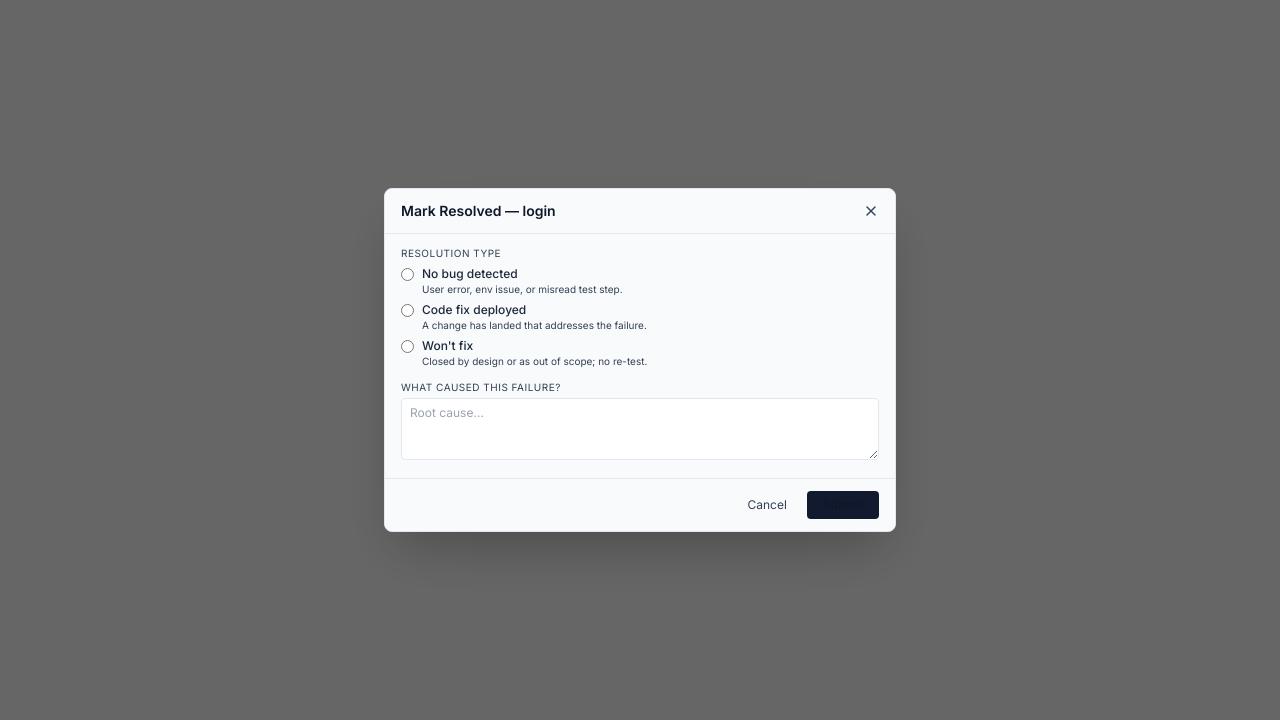
Test: ResolutionModal — Submit gate › Submit enables for wont_fix with only a root cause
Click the radio button labelled "Won't fix Closed by design or as out of scope; no re-test." at coordinates (408, 346), box [401,340,414,353]
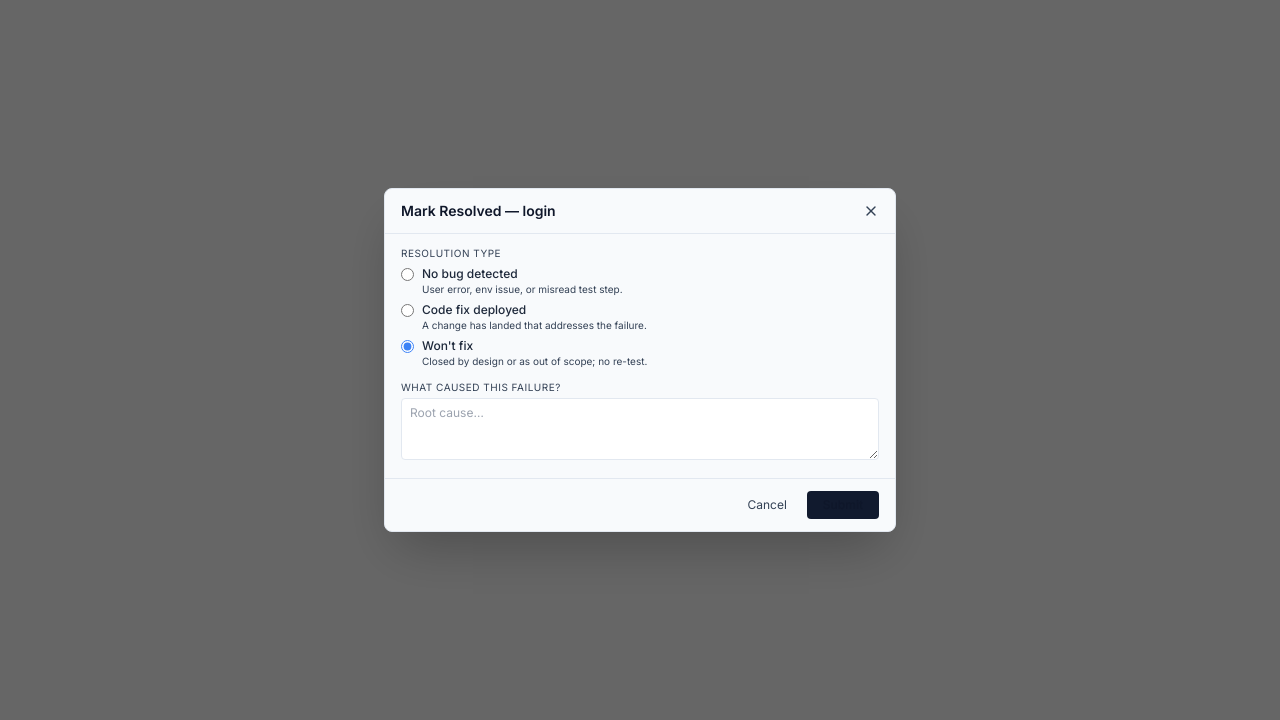
Type "By design — sysadmin-only feature." into the text box with placeholder "Root cause…" at coordinates (640, 429), box [401,398,879,460]
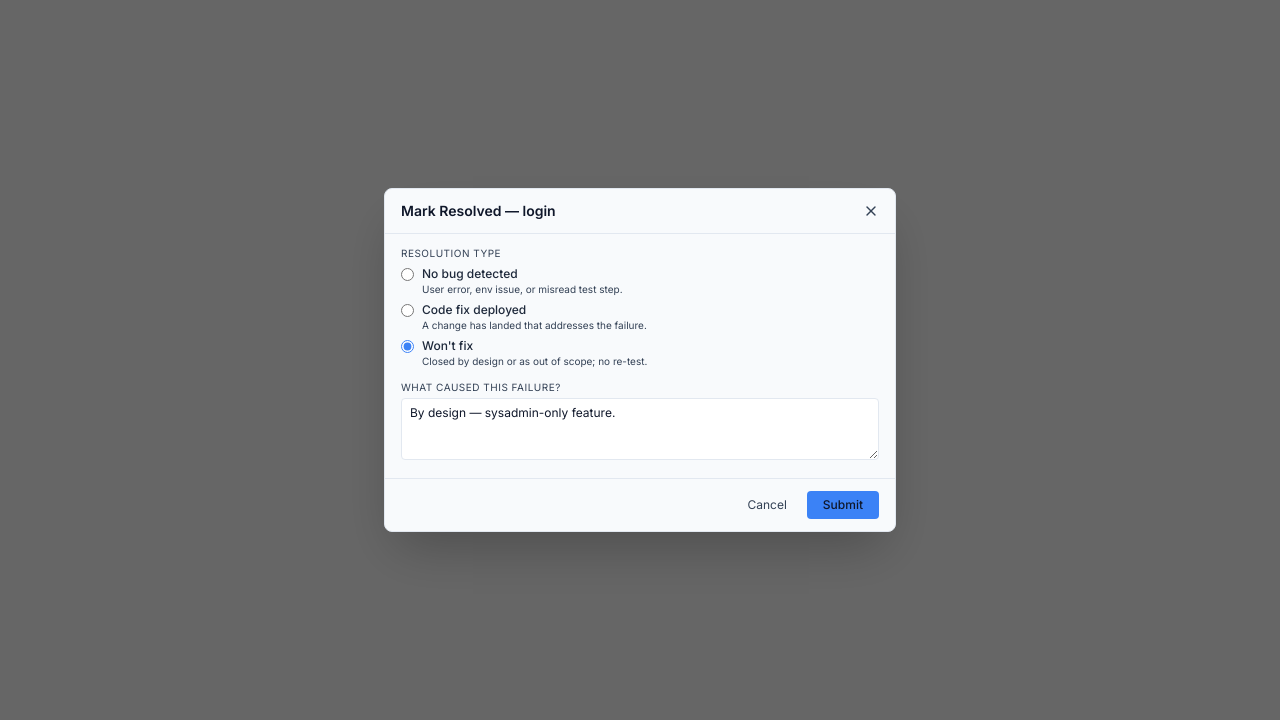
Result: the button "Submit" is enabled at [807,491,879,519]
